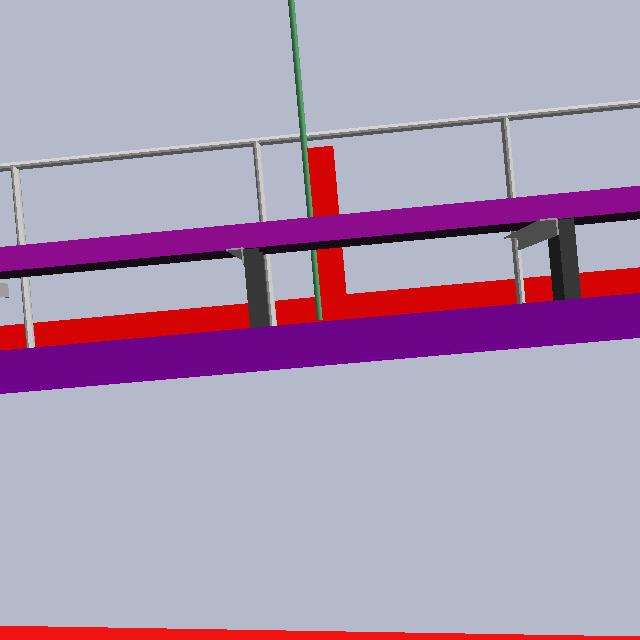Poste: (283, 1, 331, 329)
Soporte: (300, 144, 360, 333)
